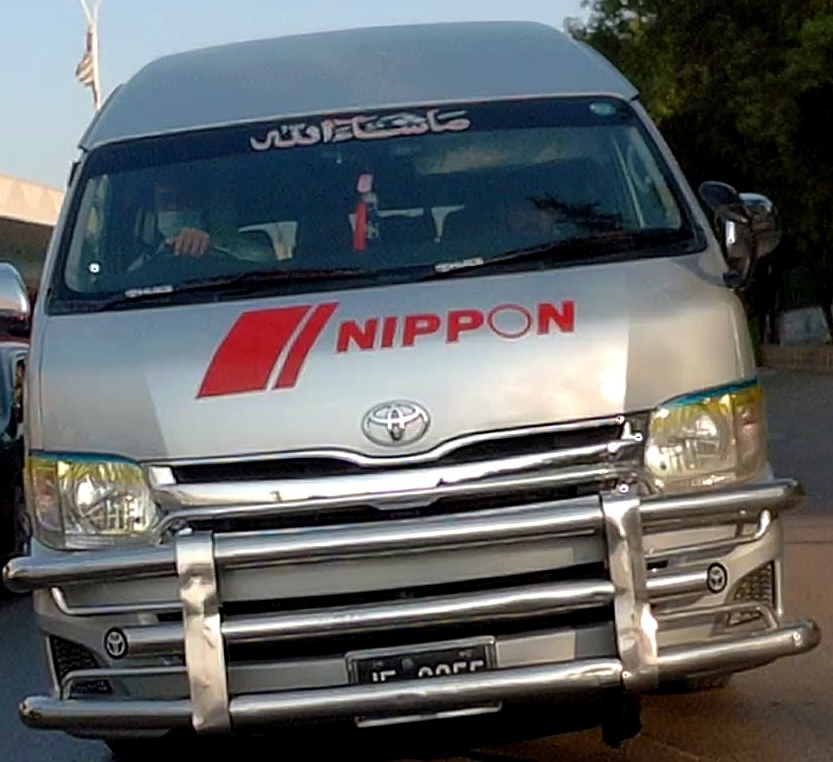van: (2, 19, 821, 762)
